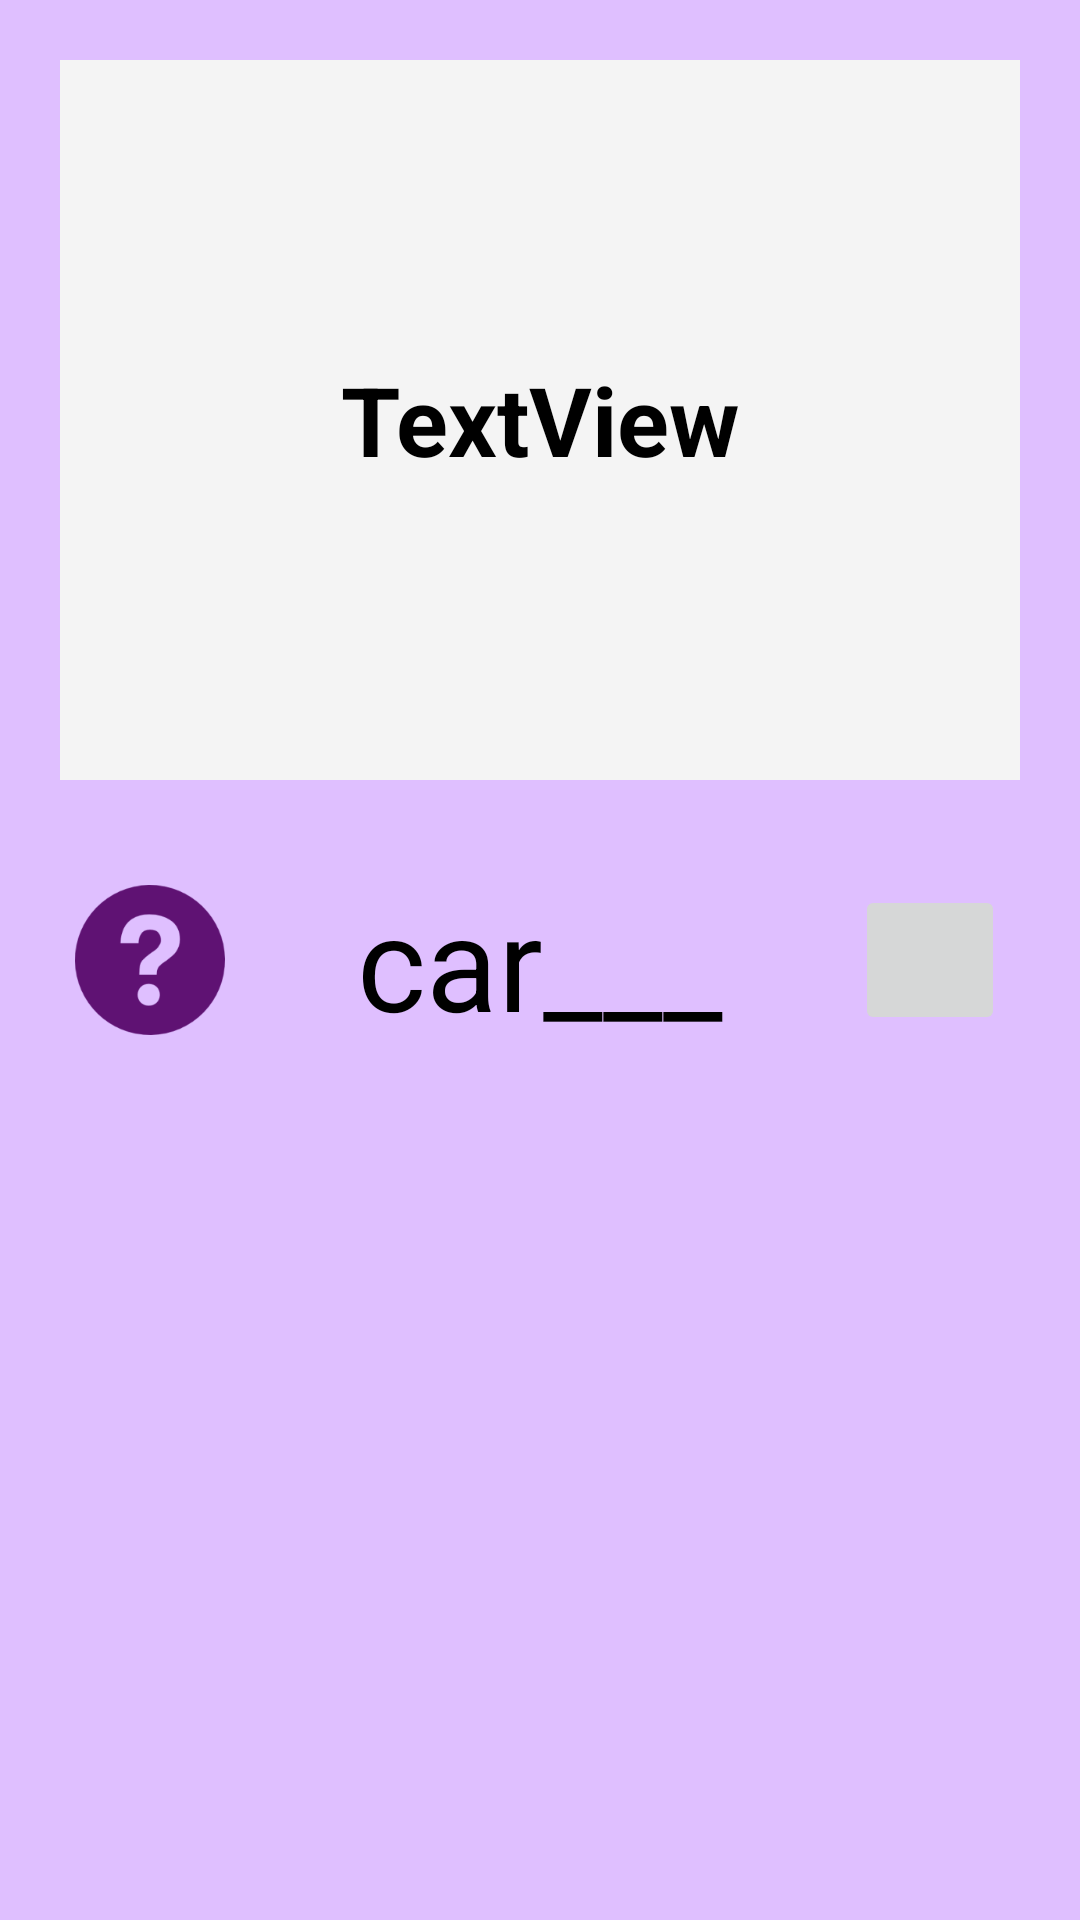

Point at icon controls on the screen. Image size 1080px×1920px, points as (x,y).
question: (150,960)
